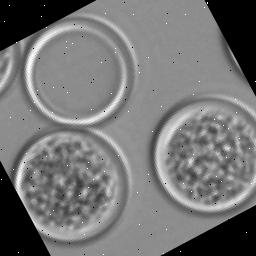picoshell: (14, 127, 130, 241), (154, 98, 256, 212), (25, 21, 135, 125), (0, 40, 21, 94)
